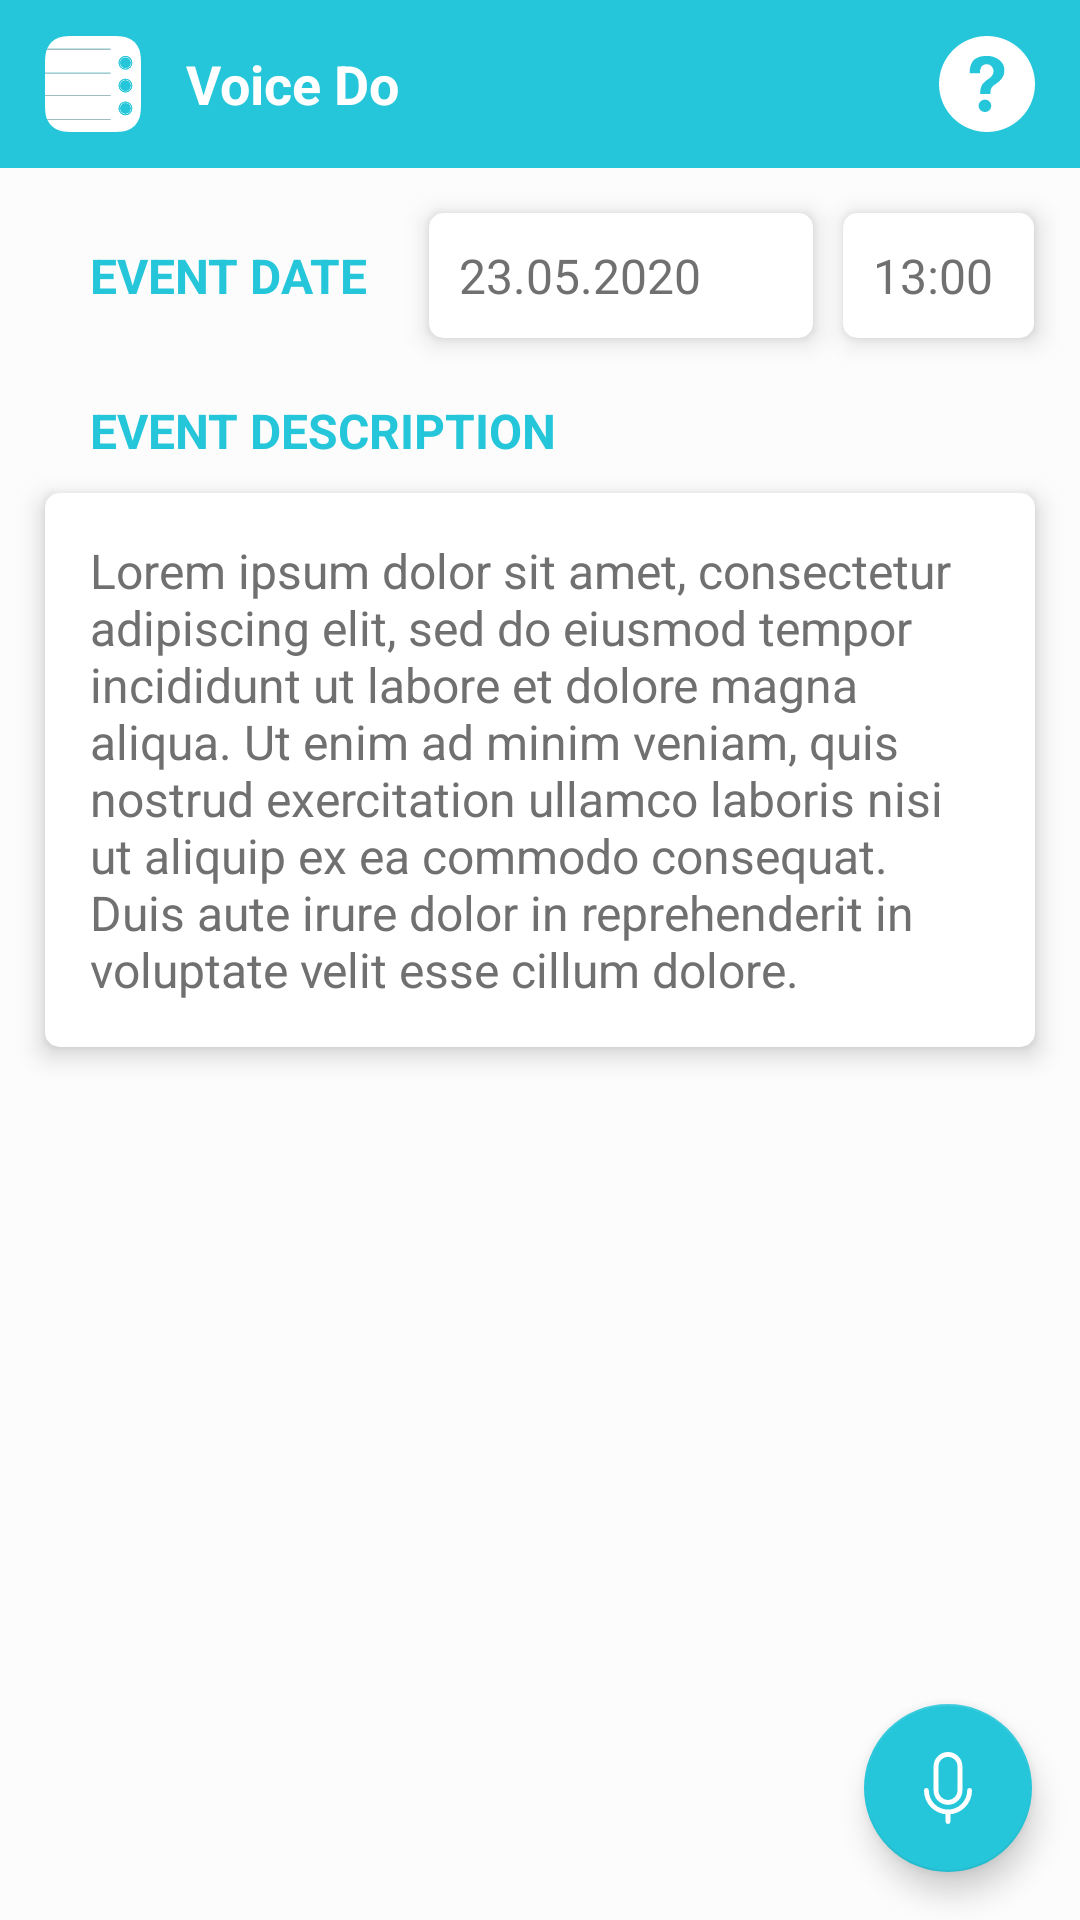

Screen size 1080w x 1920h. Icon name, then its box in pixels as (left=x1, top=y1, right=x2, bottom=y2):
help: (left=939, top=36, right=1035, bottom=132)
Micrófono: (left=864, top=1704, right=1032, bottom=1872)
